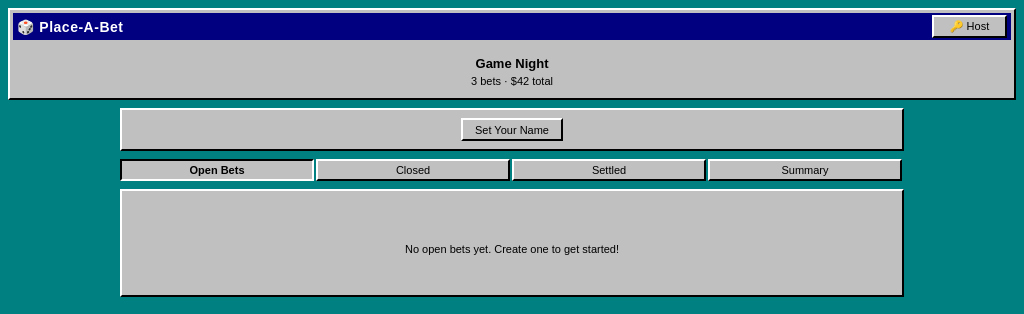
Test: App › renders the active party and lets the user set a name and switch tabs
Expected: the text "Game Night" is shown, left=476, top=56, right=548, bottom=71
Expected: the text "3 bets · $42 total" is shown, left=471, top=75, right=553, bottom=87
Click the button "Set Your Name" at [512, 130], box left=461, top=118, right=563, bottom=141
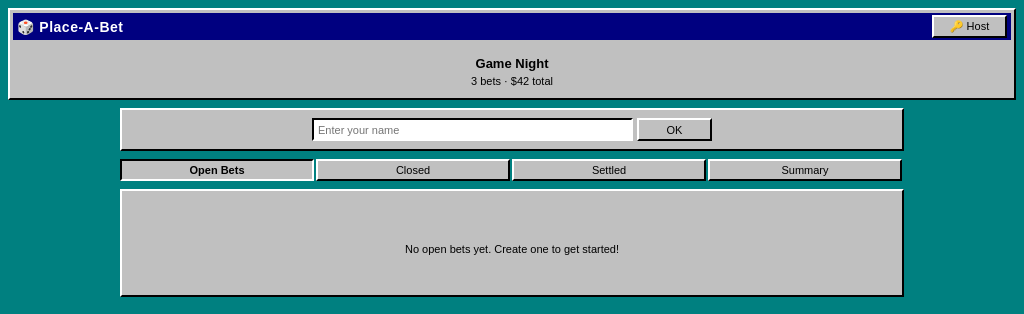
Type "Alice" into the field with placeholder "Enter your name" at [472, 130], box left=312, top=118, right=633, bottom=141
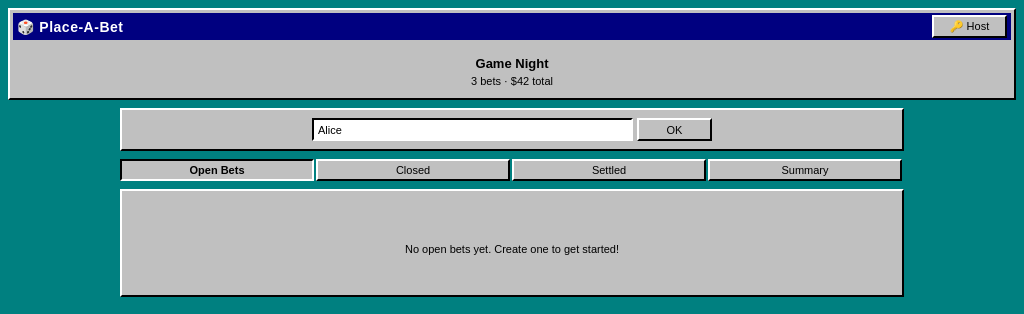
Click the button "OK" at [674, 130], box left=637, top=118, right=712, bottom=141
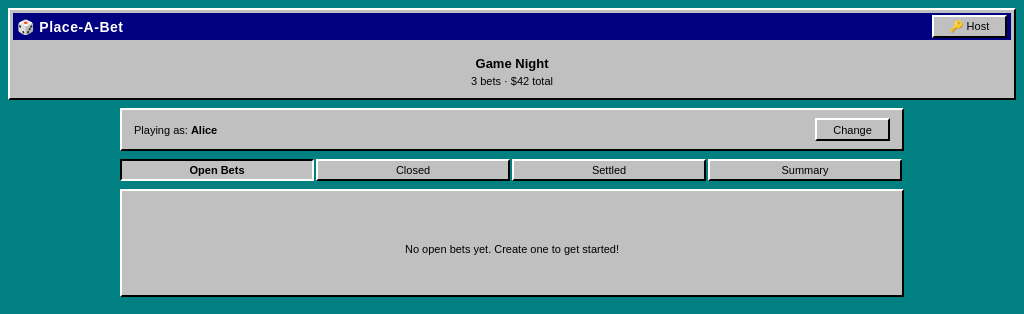
Expected: the text "Alice" is shown, left=191, top=124, right=217, bottom=136
Expected: the text "Playing as: Alice" is shown, left=134, top=124, right=217, bottom=136
Click the button "Closed" at [413, 170], box left=316, top=159, right=510, bottom=181
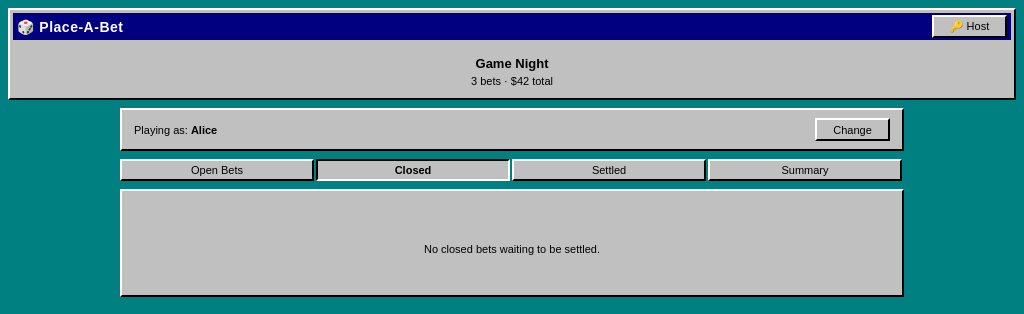
Expected: the text "No closed bets waiting to be settled." is shown, left=424, top=243, right=600, bottom=255
Click the button "Summary" at [805, 170], box left=708, top=159, right=902, bottom=181
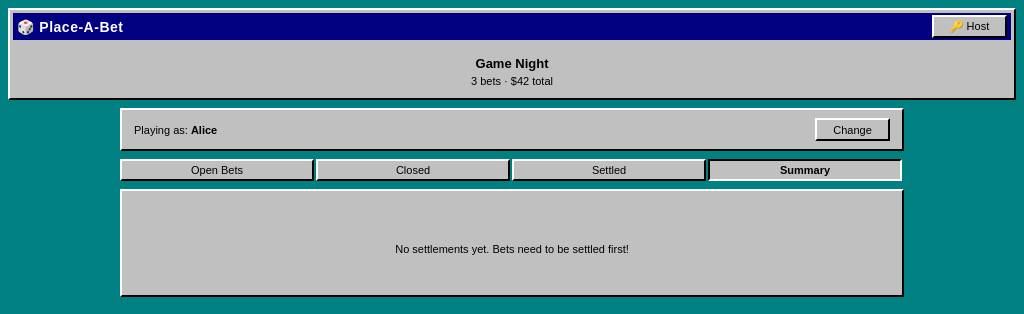
Expected: the text "No settlements yet. Bets need to be settled first!" is shown, left=395, top=243, right=629, bottom=255
